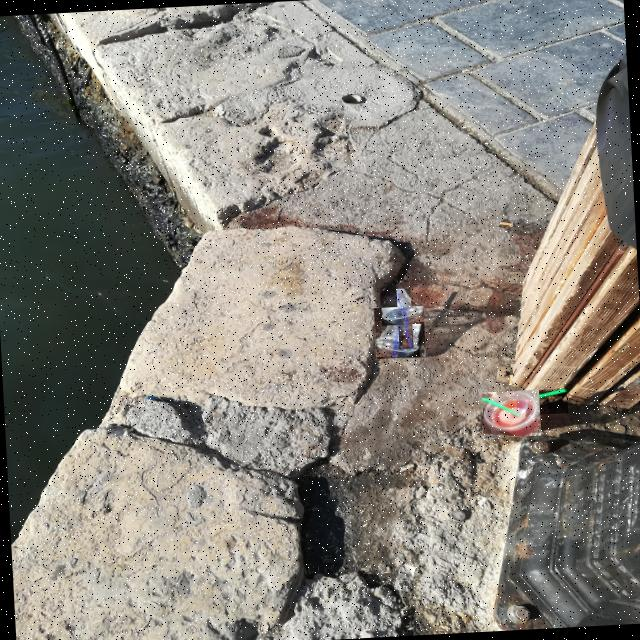Cigarette: (510, 375, 514, 385), (500, 223, 512, 226), (463, 69, 472, 73)
Disposable plastic cup: (376, 307, 424, 358), (484, 392, 539, 436)
Plastic lid: (484, 391, 539, 431), (383, 306, 424, 325)
Plastic straw: (505, 389, 567, 416), (397, 290, 413, 347)
